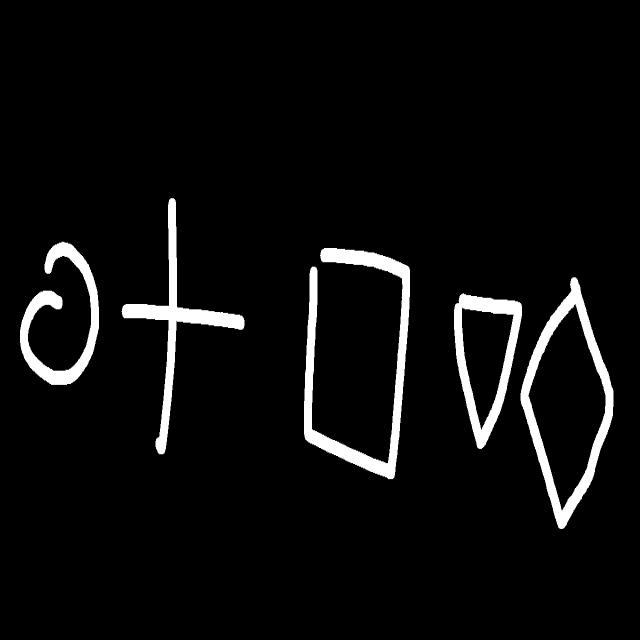Circle: (21, 244, 98, 384)
Cross: (122, 198, 244, 453)
Diamond: (521, 277, 614, 528)
Square: (304, 248, 409, 478)
Triangle: (454, 294, 522, 449)
